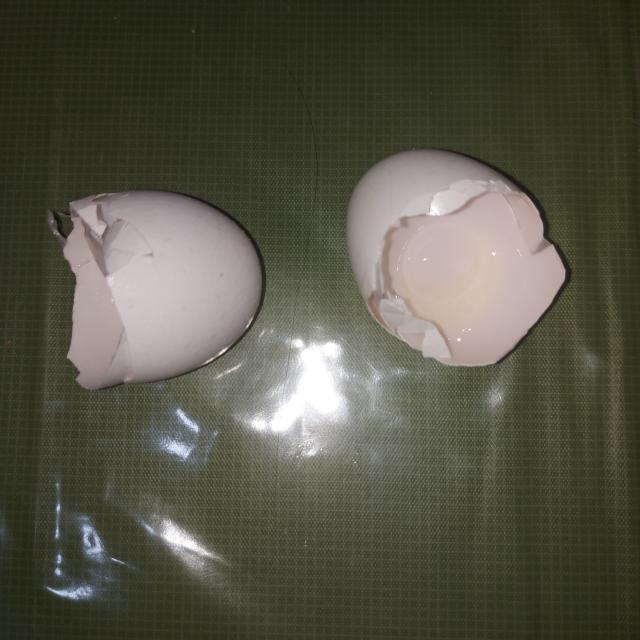egg shell: (344, 147, 567, 368), (49, 188, 267, 392)
